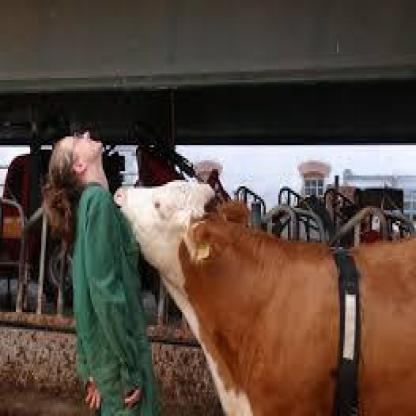cow: (114, 177, 416, 416)
